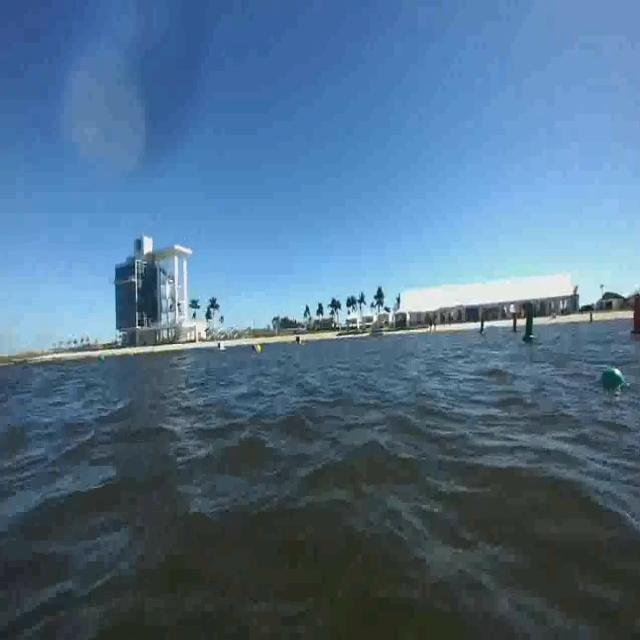green-buoy: (602, 367, 625, 388)
green-column-buoy: (522, 300, 537, 342)
red-column-buoy: (630, 295, 640, 337)
yellow-buoy: (256, 343, 262, 355)
